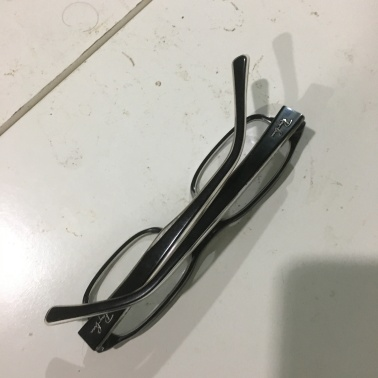glasses: (145, 100, 289, 298)
